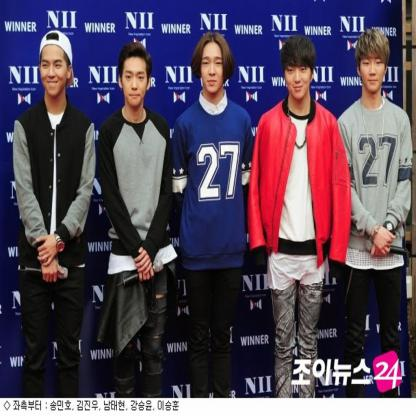face: (40, 46, 68, 96), (202, 43, 227, 96), (122, 57, 147, 107), (361, 44, 385, 92), (286, 55, 312, 99)
